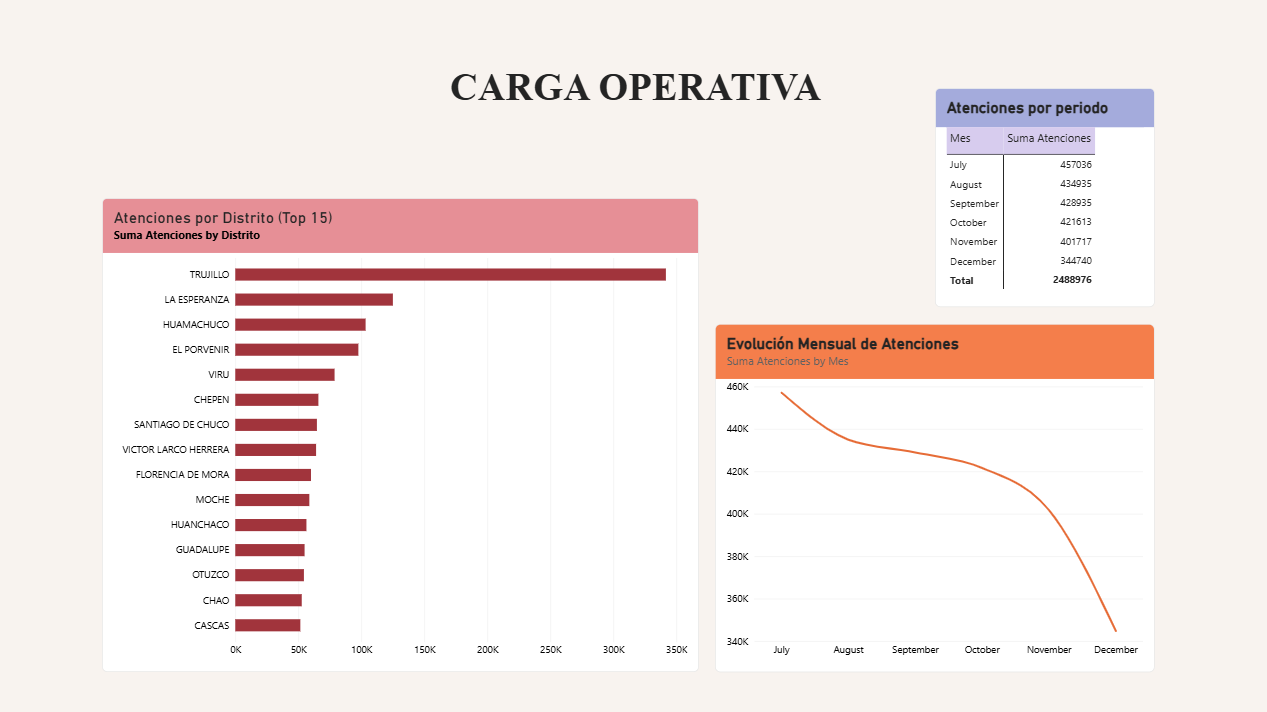

The page's visual inventory and layout, read from the dashboard file:
{"tool":"powerbi","page":{"name":"Carga operativa","canvas":[1920,1080],"ordinal":1},"visuals":[{"type":"clusteredBarChart","title":"Atenciones por Distrito (Top 15)","fields":{"Category":["Dim Establecimiento.Distrito"],"Y":["Fact Atenciones.Suma Atenciones"]},"box":[199.4,314.4,869,690],"z":0},{"type":"lineChart","title":"Evolución Mensual de Atenciones","fields":{"Category":["Dim Tiempo.Mes"],"Y":["Fact Atenciones.Suma Atenciones"]},"box":[1091.7,497.8,640.5,506.6],"z":1000},{"type":"pivotTable","title":"Atenciones por periodo","fields":{"Rows":["Dim Tiempo.Mes"],"Values":["Fact Atenciones.Suma Atenciones"]},"box":[1412,154.3,320.2,318.8],"z":2000},{"type":"textbox","box":[706,120.8,583.7,87.3],"z":2001}]}

Visuals, with their boxes in screenshot pixels (x1, y1, x2, y2), scaled from the page's 1920x1080 canvas onto the 1267x712 screenshot:
"Atenciones por Distrito (Top 15)" clusteredBarChart: crop(132, 207, 705, 662)
"Evolución Mensual de Atenciones" lineChart: crop(720, 328, 1143, 662)
"Atenciones por periodo" pivotTable: crop(932, 102, 1143, 312)
textbox: crop(466, 80, 851, 137)
